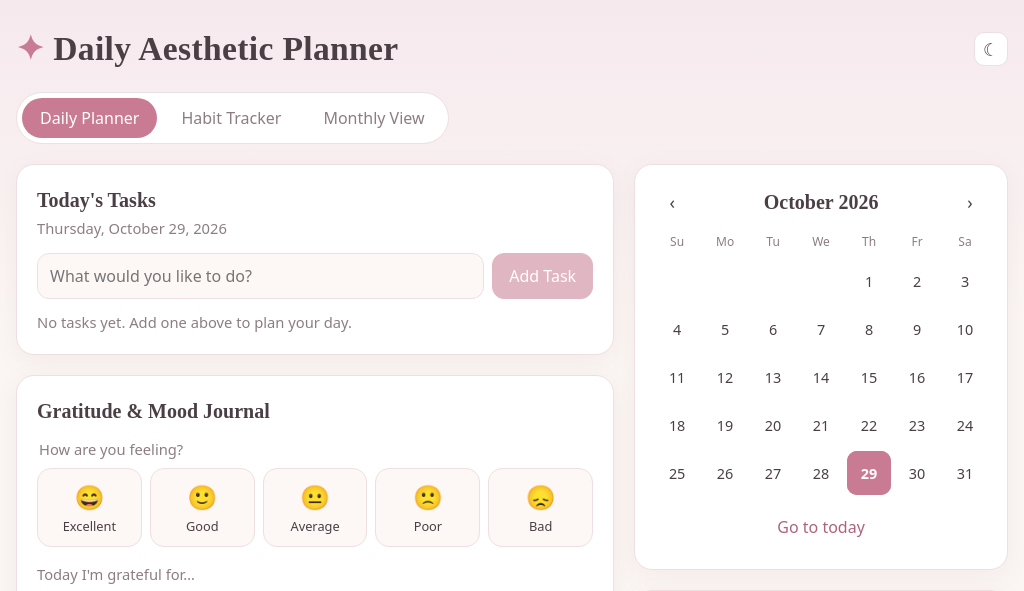
Test case: Daily planner › deletes a task
Type "Call mom" into the field named "New task" at point(261, 276), box [37,254,484,300]
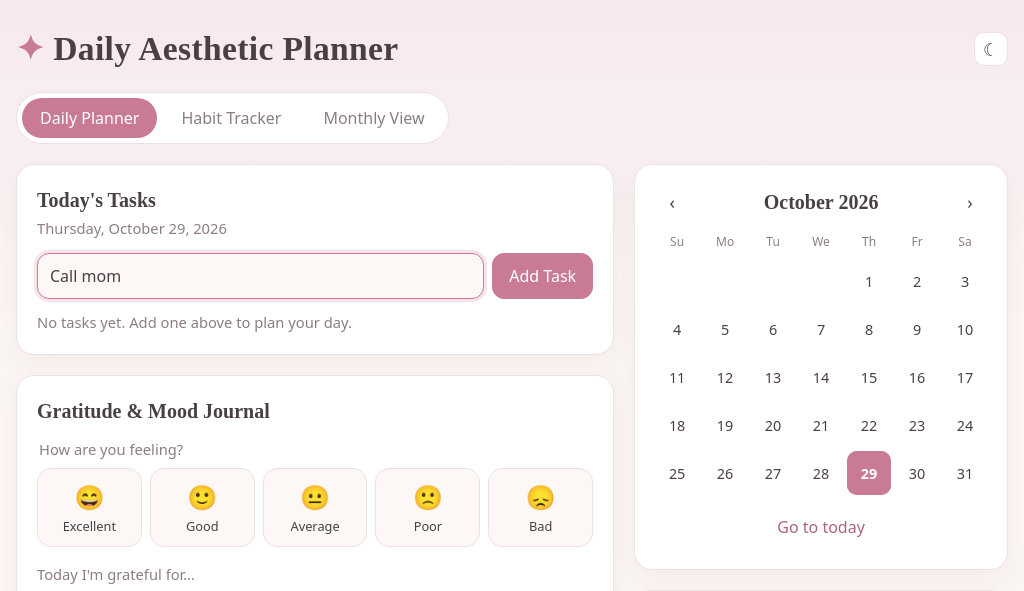
Click the button "Add Task" at point(543, 276), box [492,254,593,300]
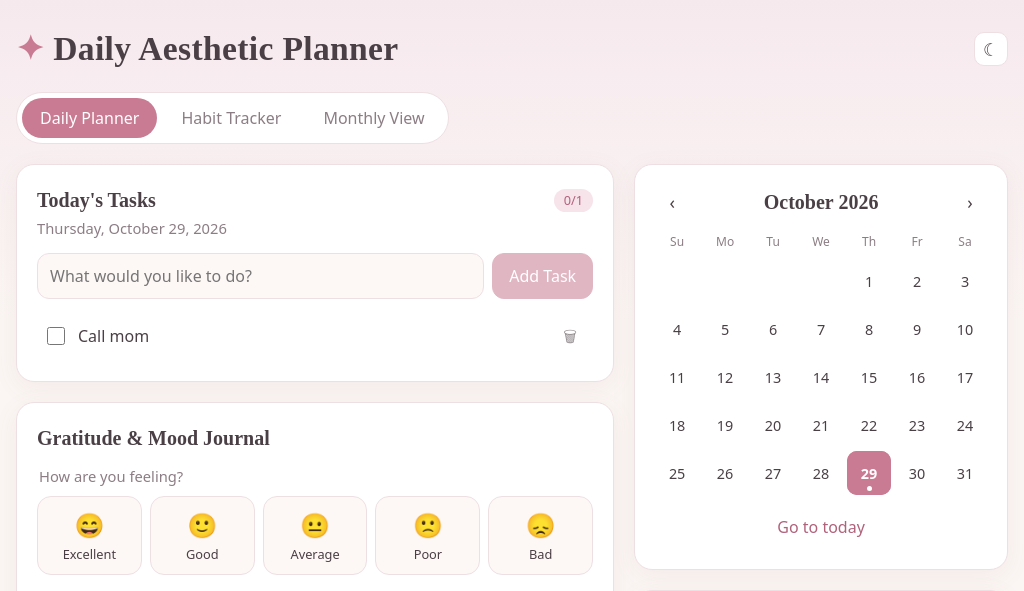
expect the checkbox labelled "Call mom" is shown: met, box [47,328,65,346]
Click the button named "Delete task: Call mom" at point(570, 336), box [553,320,587,354]
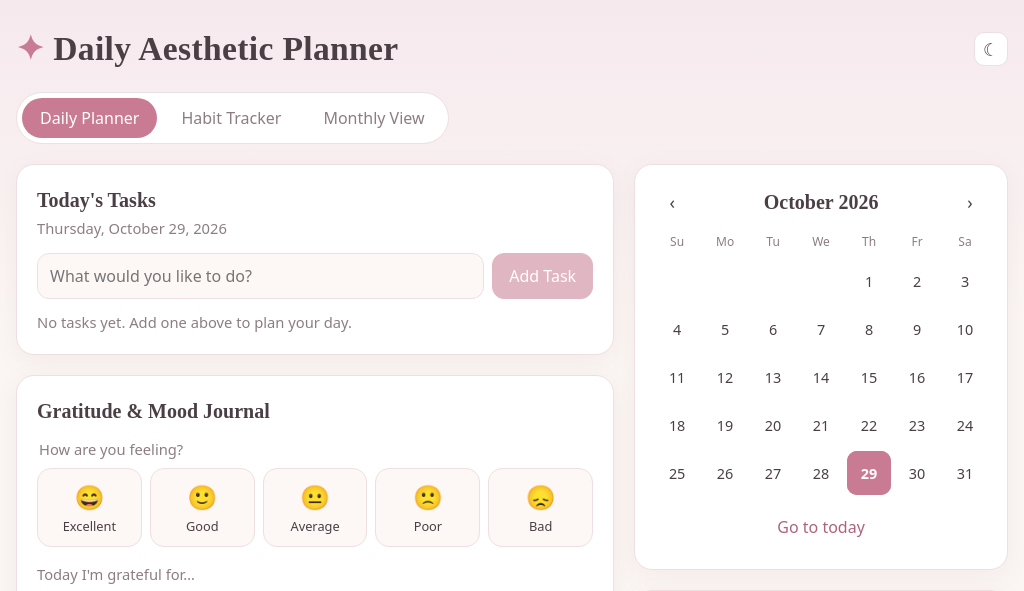
expect the label labelled "Call mom" is gone: met
